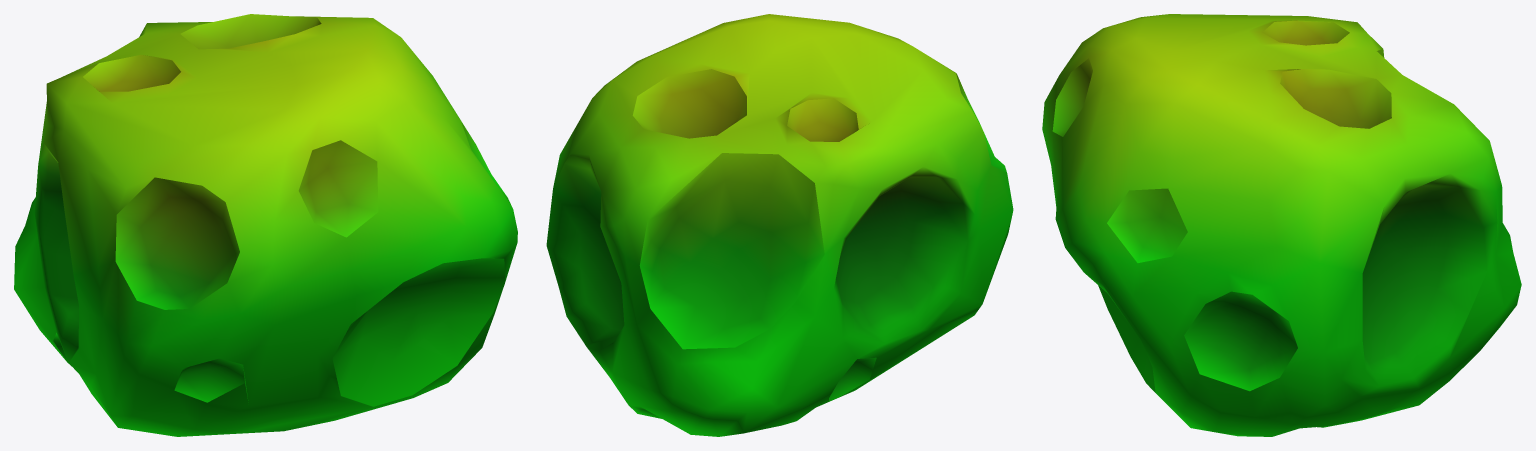
Rendered from BakedMeteor.fbx.
3 views of the same model, side by side, from view 1: azimuth 30°, elevation 25°; view 2: azimuth 150°, elevation 25°; view 3: azimuth 270°, elevation 25° (orthographic). The views are drawn at different scales.
Visible parts, largest first — view 1: SetToColorChannels; view 2: SetToColorChannels; view 3: SetToColorChannels.
Part boxes in pixels (bbox=[...]): SetToColorChannels: bbox=[14, 14, 517, 436]; SetToColorChannels: bbox=[546, 14, 1013, 436]; SetToColorChannels: bbox=[1042, 14, 1521, 436].
Bounding box in the file's own units: 821 × 698 × 869.
